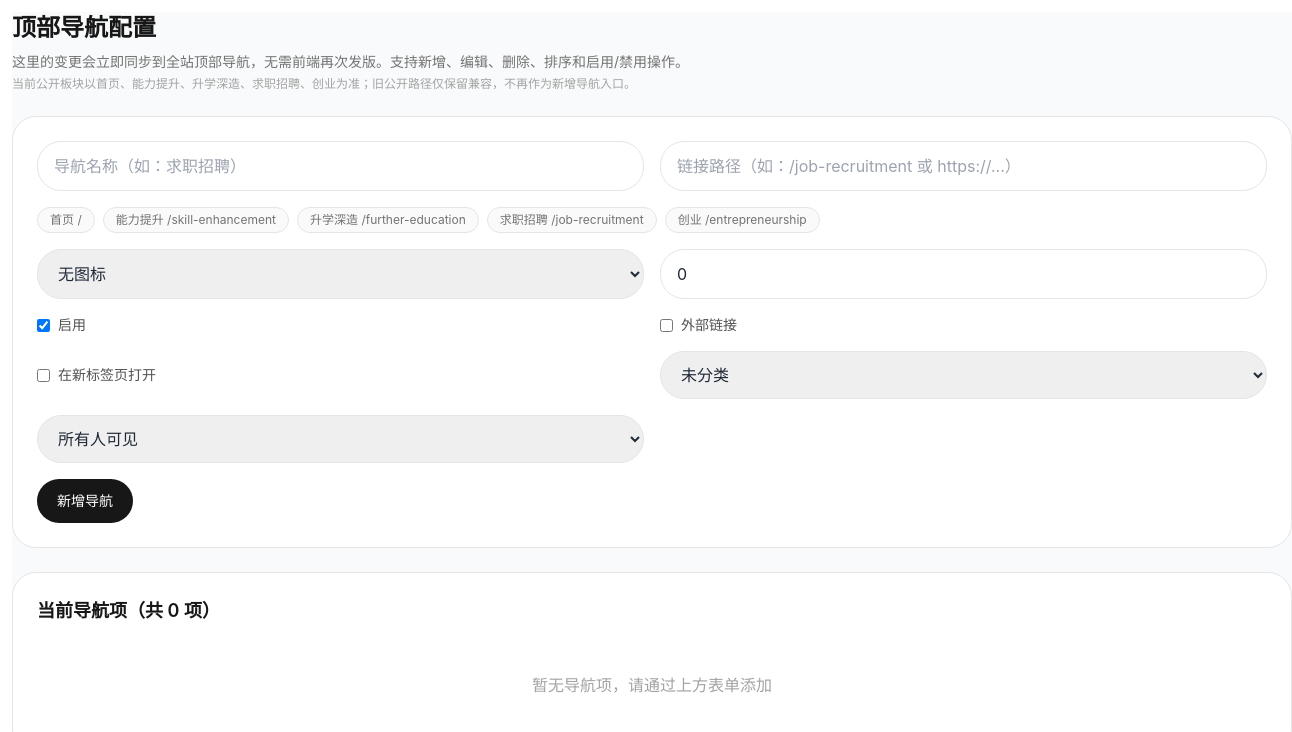
Test case: Admin NavItems › blocks external-path mismatches before writing nav items
expect the dropdown named "图标" is shown: met, box top-left (37, 249), bottom-right (644, 299)
Type "External Docs" into the field labelled "名称" at (340, 166), box top-left (37, 141), bottom-right (644, 191)
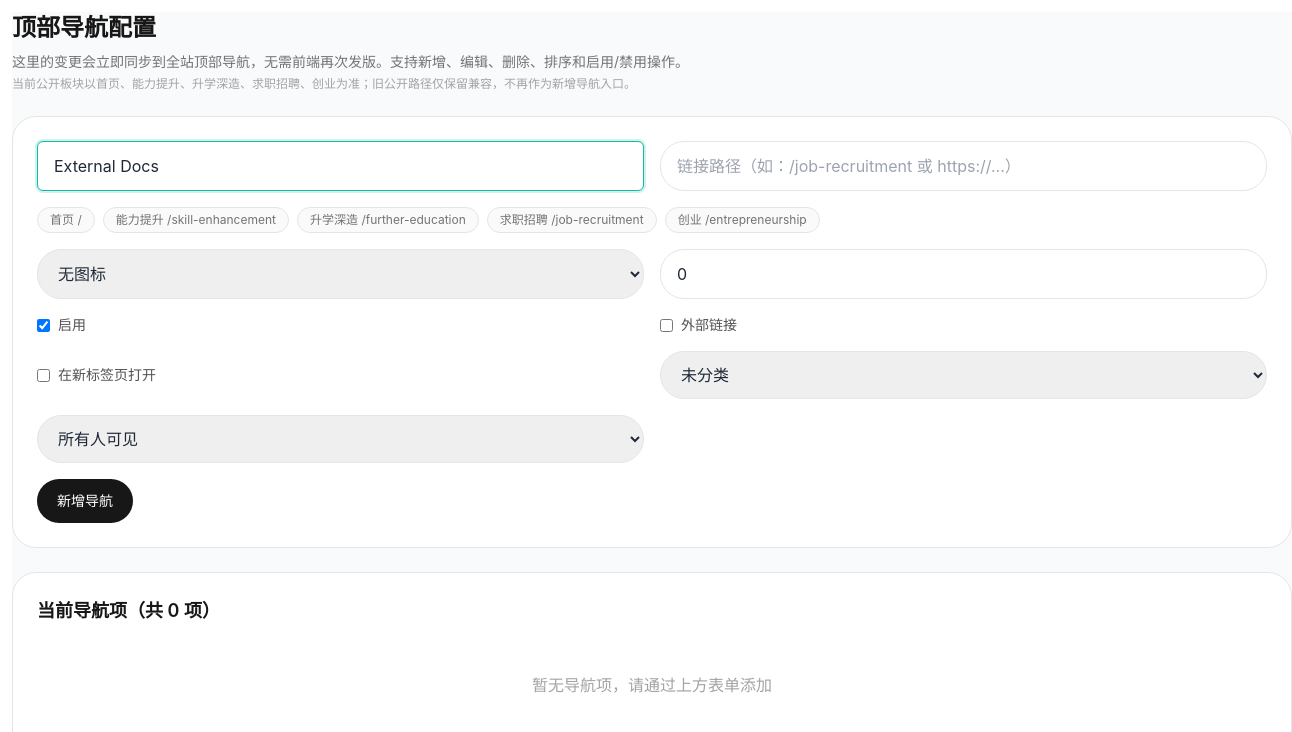
Type "/docs" into the field labelled "链接" at (964, 166), box top-left (660, 141), bottom-right (1267, 191)
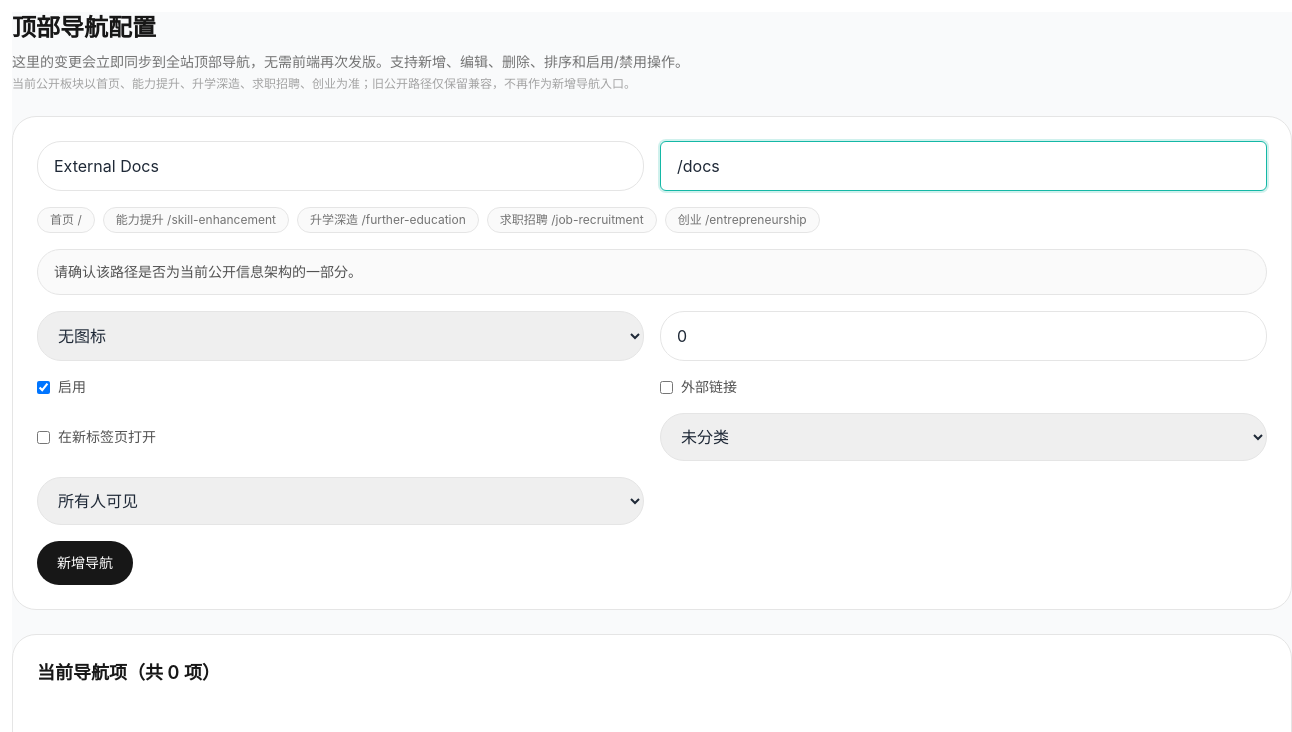
Click the checkbox labelled "外部链接" at (666, 387), box top-left (660, 380), bottom-right (673, 394)
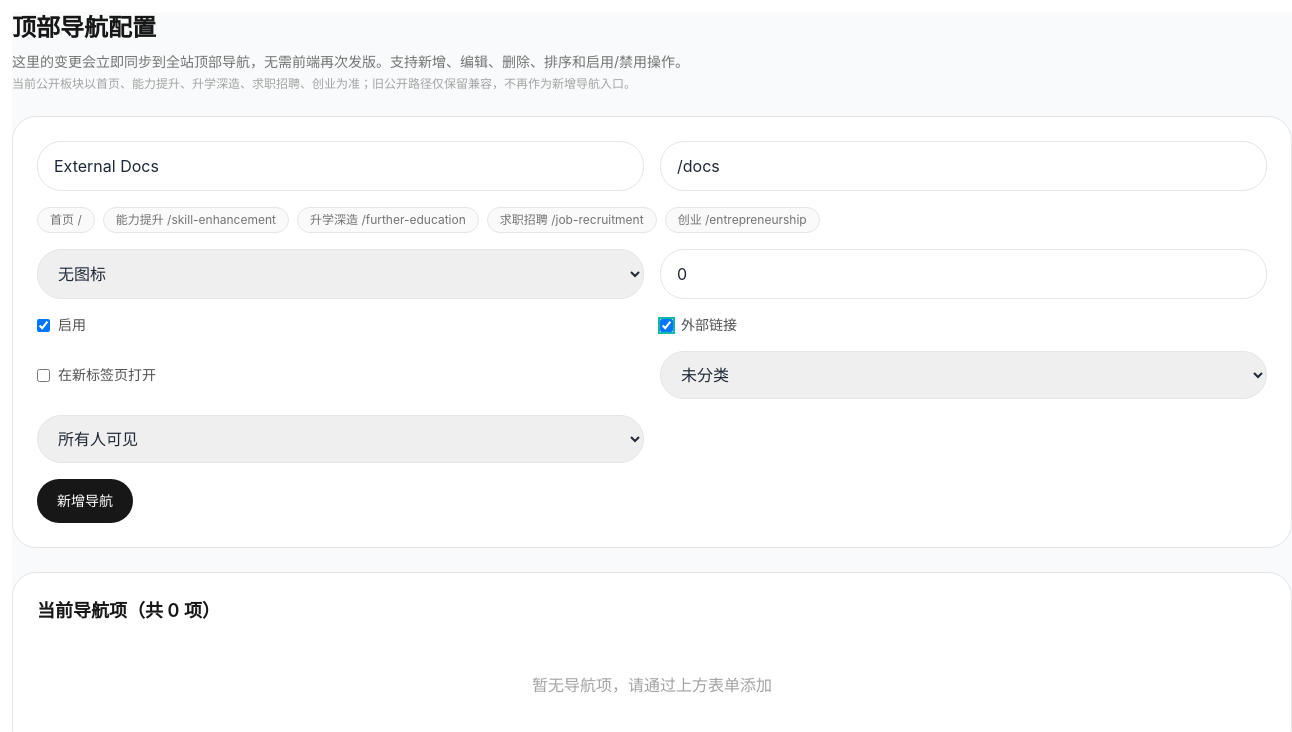
Click the button "新增导航" at (85, 501), box top-left (37, 479), bottom-right (133, 523)
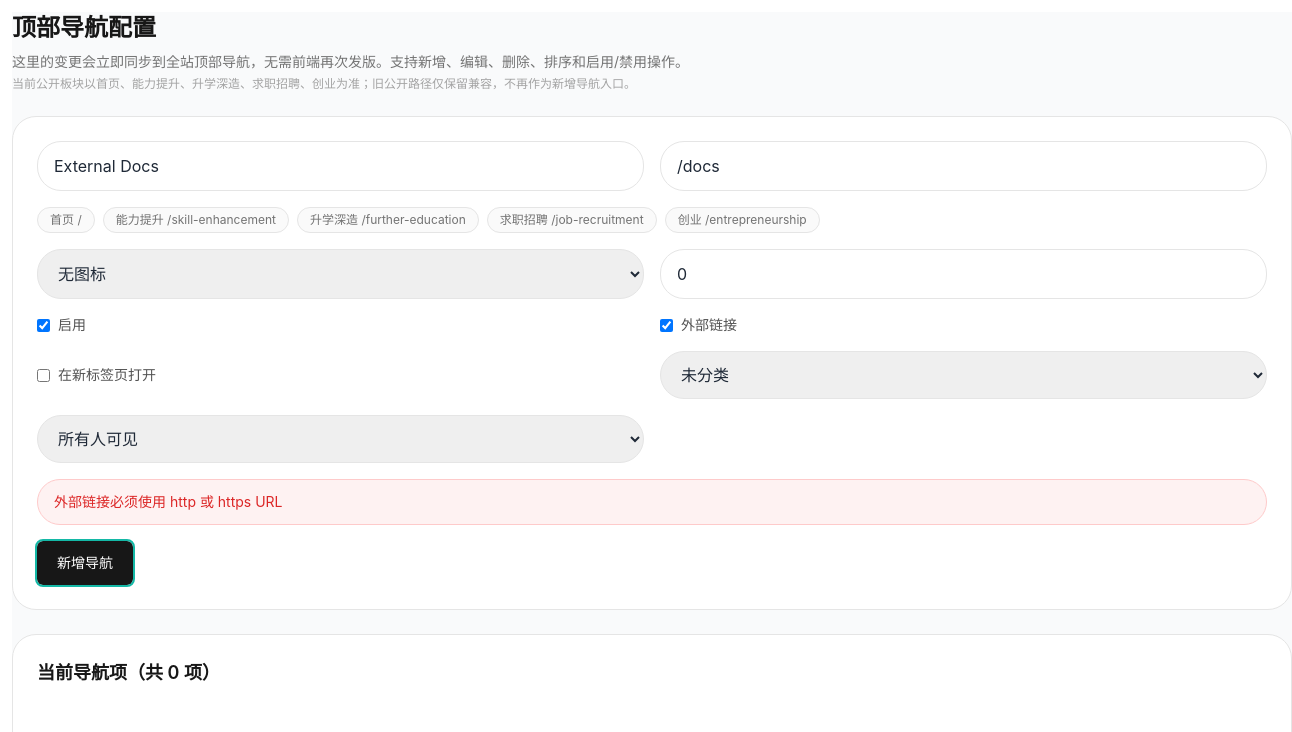
expect the text "外部链接必须使用 http 或 https URL" is shown: met, box top-left (37, 479), bottom-right (1267, 525)
